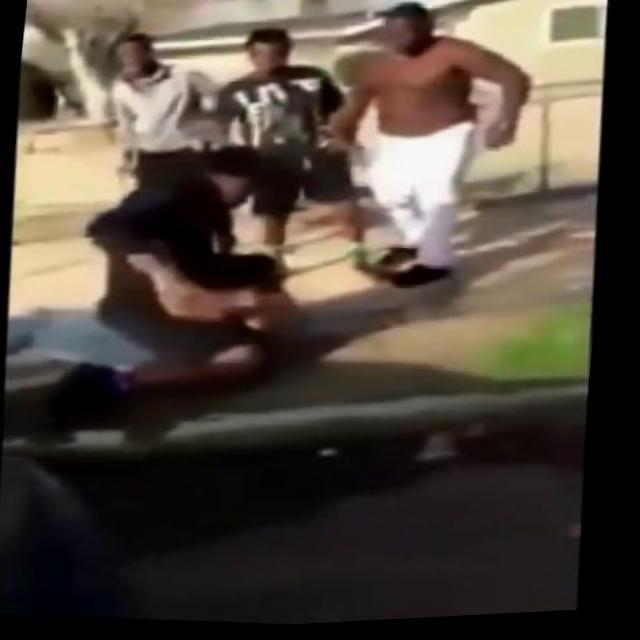fight: (0, 122, 325, 420)
